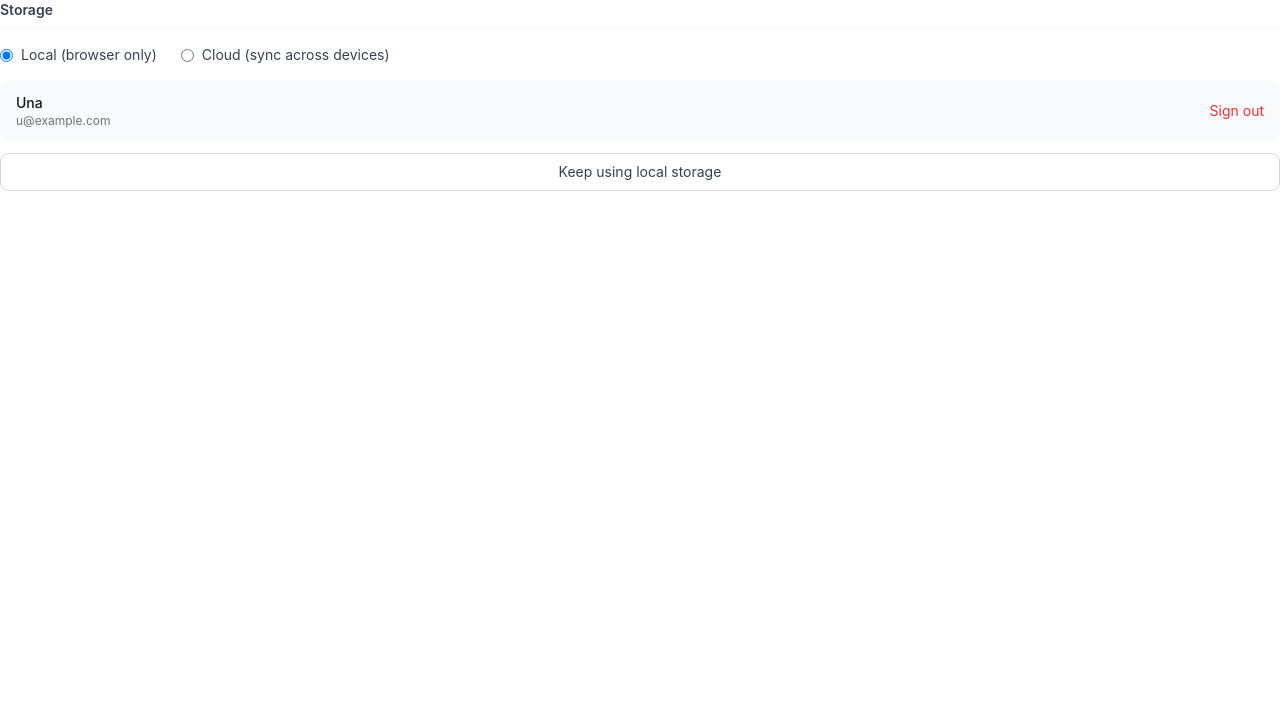
the upload list (R-4) › lists every Local product, archived ones too, each with when it was last edited, none ticked
This screenshot has width=1280, height=720.
Click the radio button labelled "Cloud (sync across devices)" at {"x": 187, "y": 55}, box x1=181 y1=48 x2=194 y2=62
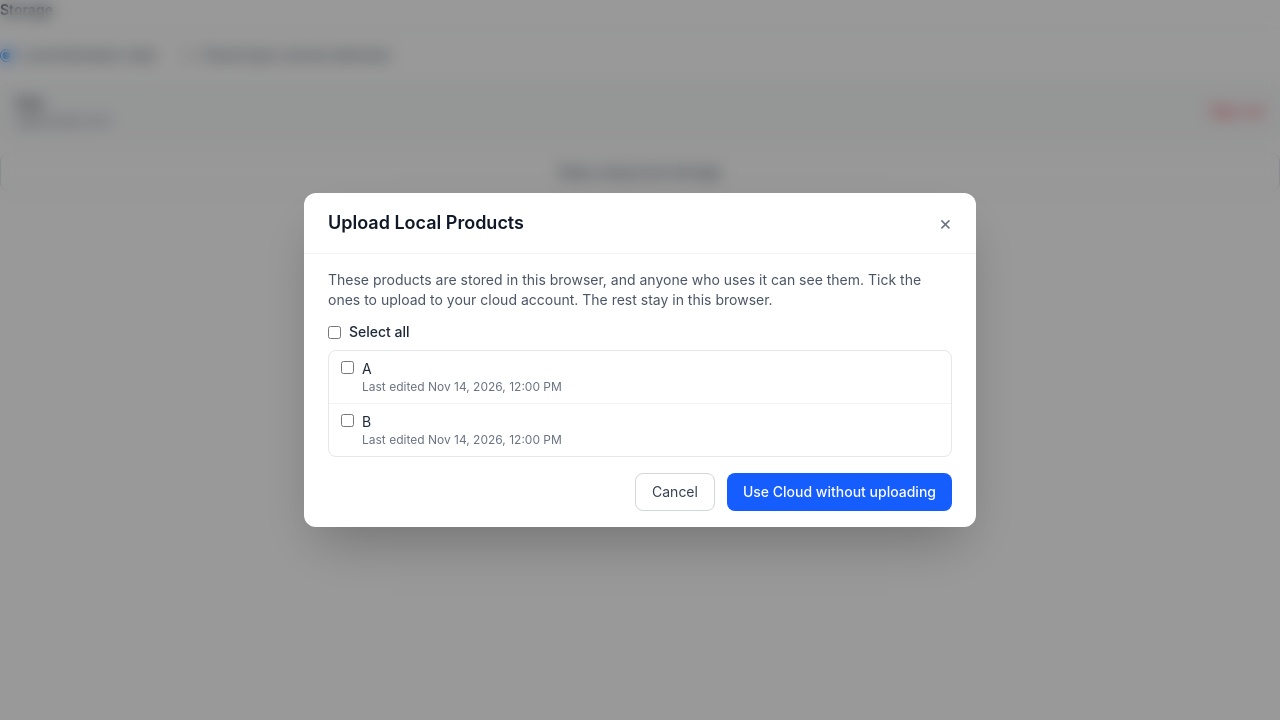
Expected: the text "These products are stored in this browser, and anyone who uses it can see them. Tick the ones to upload to your cloud ac" is shown, x1=328 y1=271 x2=921 y2=308
Expected: the checkbox labelled "A Last edited Nov 14, 2026, 12:00 PM" is not checked, x1=341 y1=361 x2=354 y2=374
Expected: the text "Last edited Nov 14, 2026, 12:00 PM" is shown 2 times, x1=362 y1=379 x2=562 y2=395; x1=362 y1=432 x2=562 y2=448
